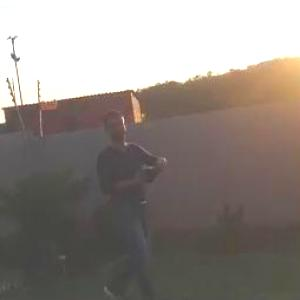follow: (88, 104, 174, 299)
